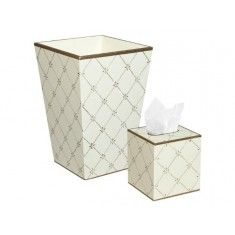Tissue: (141, 97, 185, 135)
